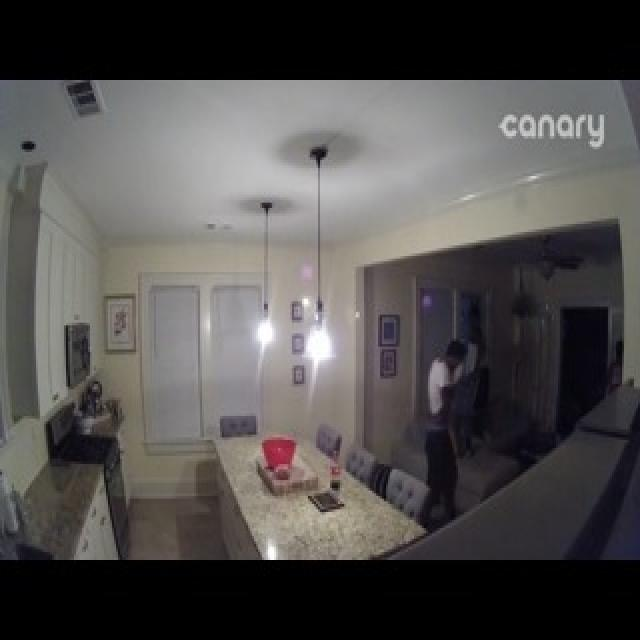thief: (420, 328, 469, 529)
